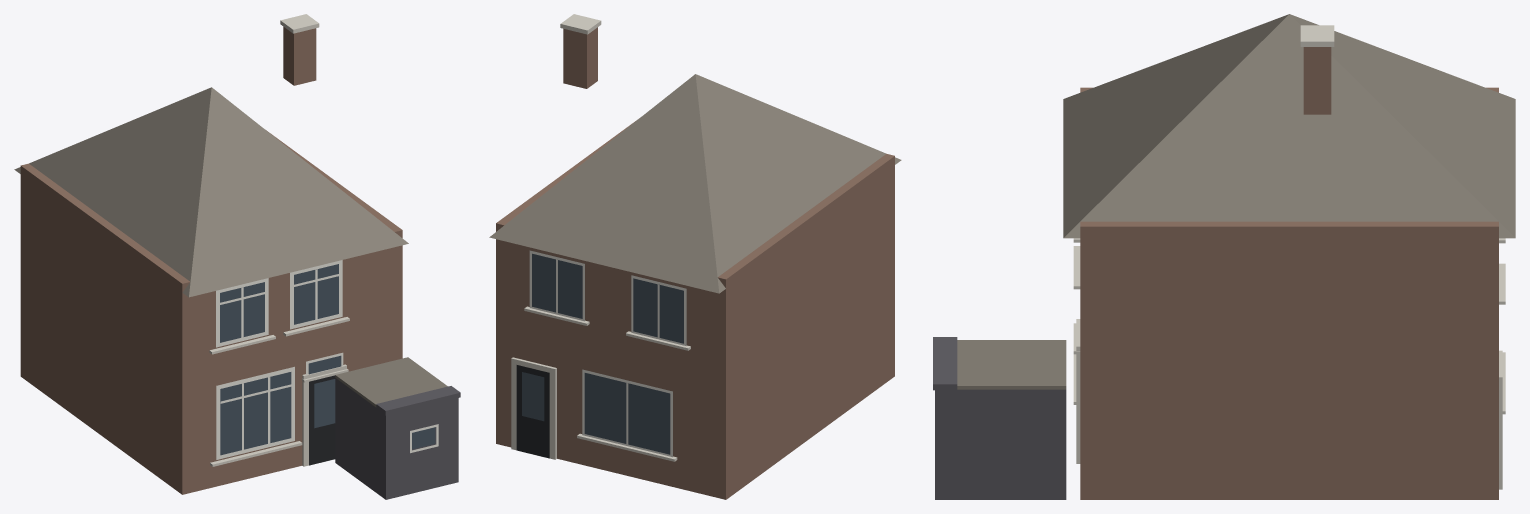
Rendered from fe-db-row__black-door__2__hip__long__solid.glb.
The picture shows the model from 3 angles, left to right: view 1: azimuth 30°, elevation 25°; view 2: azimuth 150°, elevation 25°; view 3: azimuth 270°, elevation 25°; orthographic projection. The views are drawn at different scales.
Parts seen in each view (by area): view 1: fe-db-row__black-door__2__hip__long__solid; view 2: fe-db-row__black-door__2__hip__long__solid; view 3: fe-db-row__black-door__2__hip__long__solid.
Boxes of the visible parts, x1=… form: fe-db-row__black-door__2__hip__long__solid: x1=14, y1=14, x2=460, y2=499; fe-db-row__black-door__2__hip__long__solid: x1=489, y1=14, x2=901, y2=499; fe-db-row__black-door__2__hip__long__solid: x1=933, y1=14, x2=1515, y2=499.
Bounding box in the file's own units: 5.95 × 9.08 × 10.49.
